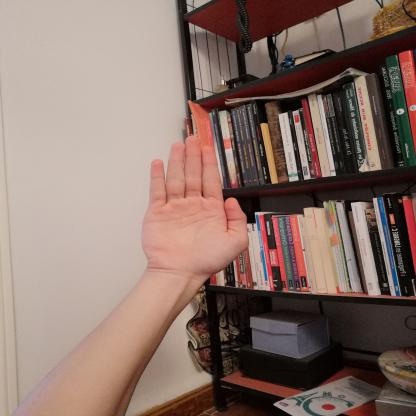SEEN: (129, 127, 259, 284)
